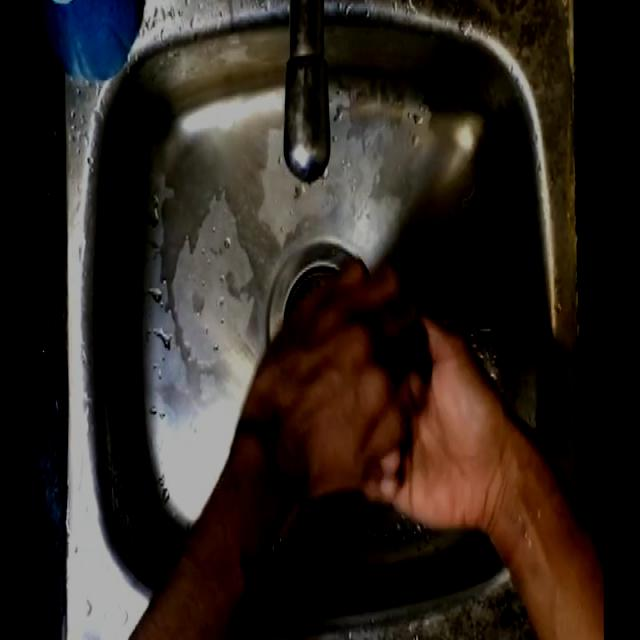step_4: (247, 268, 502, 524)
